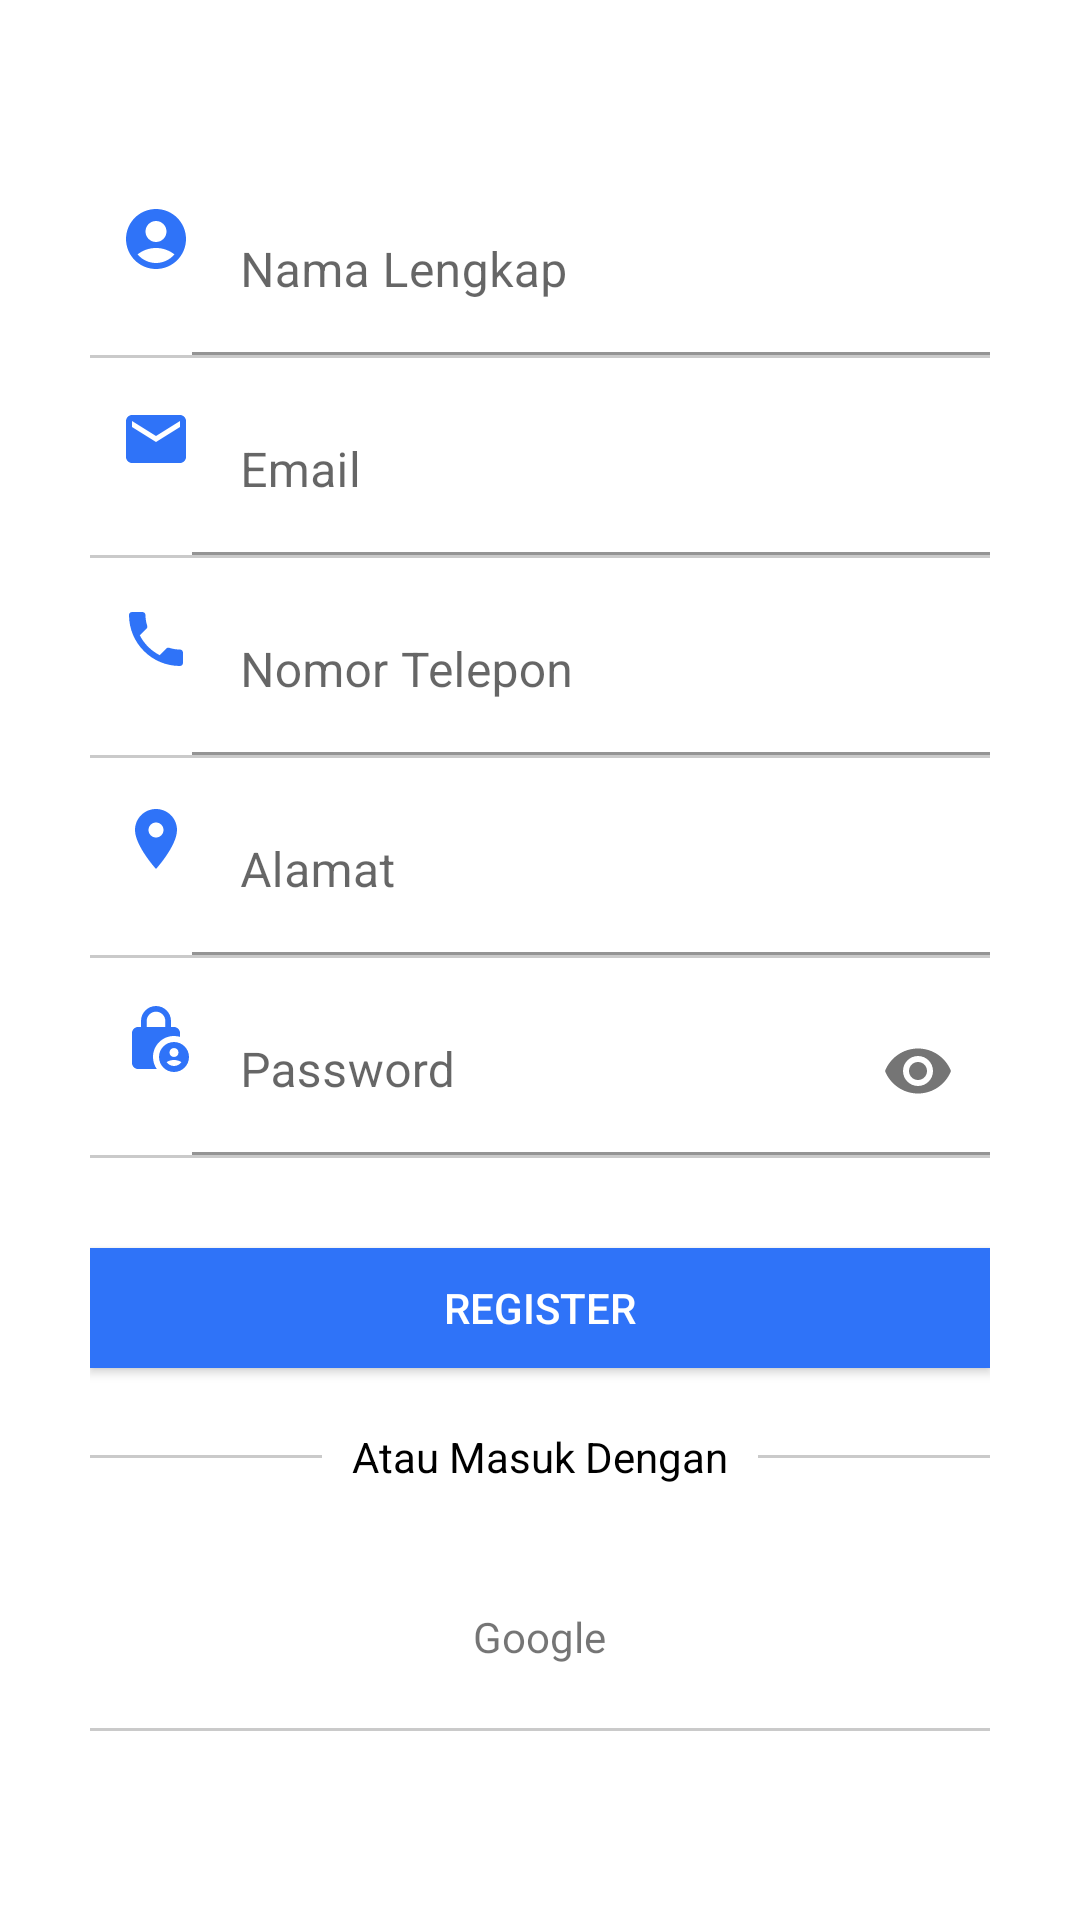

Icon bounding boxes for this 1080px x 1920px phone screenshot, format BBox(x1, y1, x2, y2):
account circle: BBox(126, 209, 186, 269)
location on: BBox(135, 809, 177, 869)
lock person: BBox(132, 1006, 189, 1072)
phone: BBox(129, 612, 183, 666)
